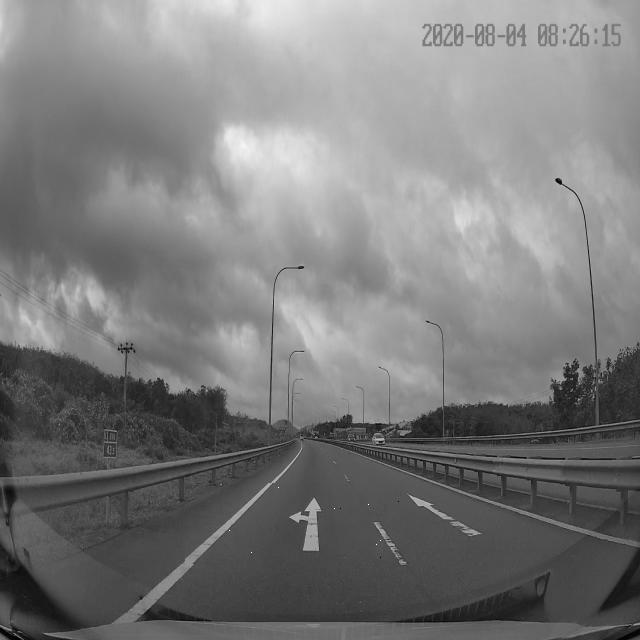forward_lft: (186, 483, 408, 564)
